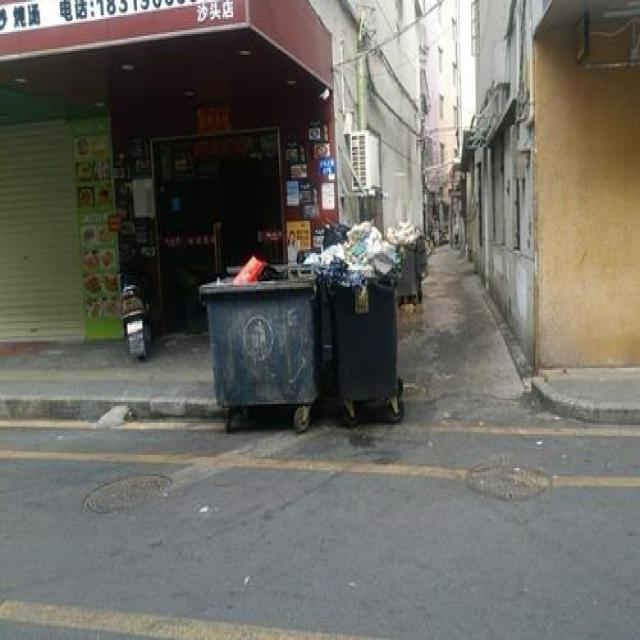overflow: (197, 255, 318, 404), (322, 219, 400, 400), (391, 225, 426, 300)
